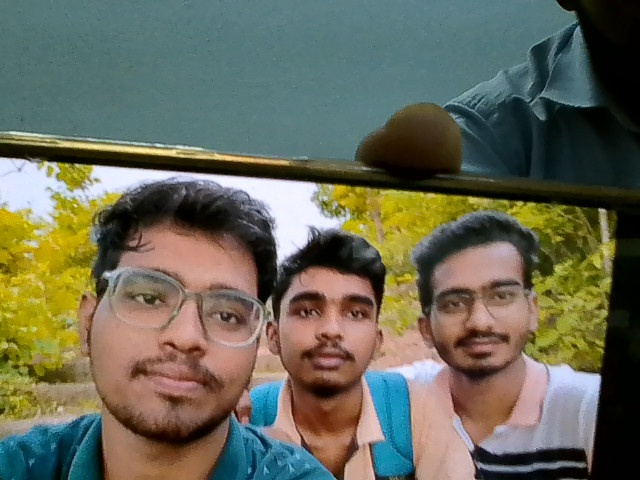real: (277, 237, 388, 395)
